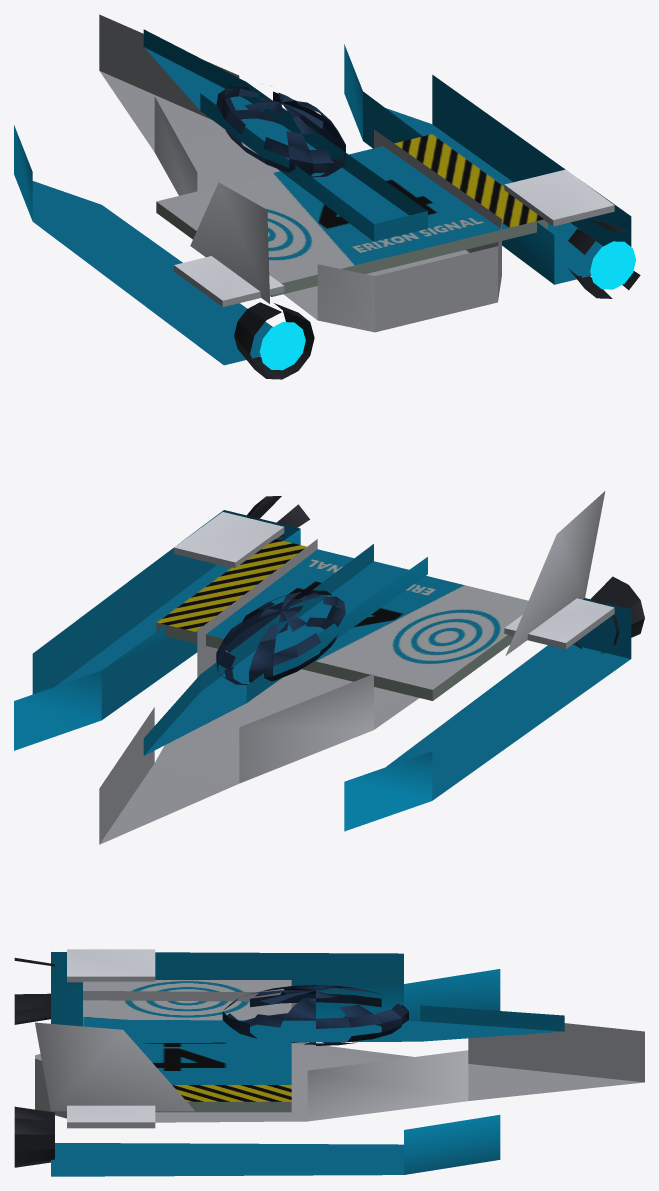
Rendered from craft_5.glb.
3 views of the same model, one above another, from view 1: azimuth 30°, elevation 25°; view 2: azimuth 150°, elevation 25°; view 3: azimuth 270°, elevation 25° (orthographic). The views are drawn at different scales.
Parts seen in each view (by area): view 1: craft_5_body, flap_R_plate.005, flap_L_plate.005; view 2: craft_5_body, flap_R_plate.005, flap_L_plate.005; view 3: craft_5_body, flap_L_plate.005, flap_R_plate.005.
Boxes of the visible parts, x1,y1,x2,y2 form: craft_5_body: (14,14,640,379); flap_R_plate.005: (504,169,614,226); flap_L_plate.005: (174,256,284,306); craft_5_body: (14,491,644,844); flap_R_plate.005: (174,512,284,567); flap_L_plate.005: (504,598,614,649); craft_5_body: (14,952,644,1176); flap_L_plate.005: (67,949,155,982); flap_R_plate.005: (67,1105,155,1128).
Size of the model in its own units: 5.3 by 2.02 by 7.86.
6 materials, 1 textured.
